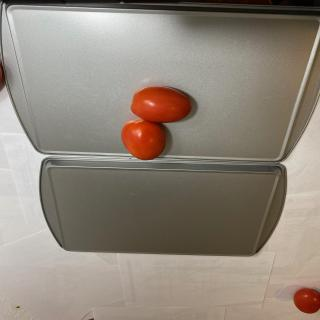Chilli: (120, 85, 192, 160)
Tomato: (130, 86, 192, 123), (121, 119, 166, 160), (293, 288, 320, 314)
